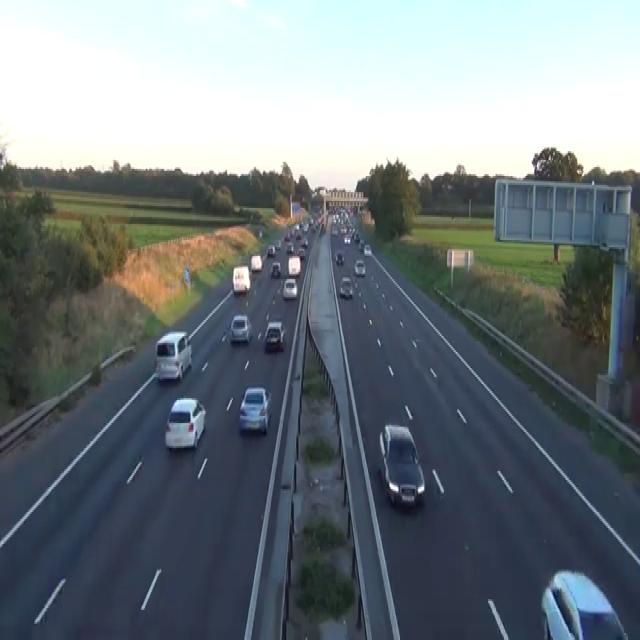Car: (540, 569, 629, 638), (378, 423, 425, 507), (164, 396, 206, 450), (154, 330, 192, 380), (238, 386, 271, 434), (229, 313, 252, 343), (264, 320, 285, 350), (282, 277, 297, 299), (339, 276, 353, 298), (250, 254, 262, 272), (354, 258, 365, 276), (270, 262, 281, 278), (408, 334, 419, 348), (335, 251, 344, 265), (297, 247, 305, 260), (318, 222, 326, 235), (363, 244, 371, 256), (267, 244, 275, 256), (358, 238, 365, 251), (285, 242, 293, 252), (331, 224, 338, 235), (275, 238, 281, 249), (283, 233, 290, 242), (302, 238, 308, 247), (295, 231, 301, 240), (344, 236, 350, 244), (340, 226, 346, 234), (354, 233, 359, 242), (258, 228, 262, 238)
Truck: (232, 265, 250, 293), (288, 256, 301, 276)
